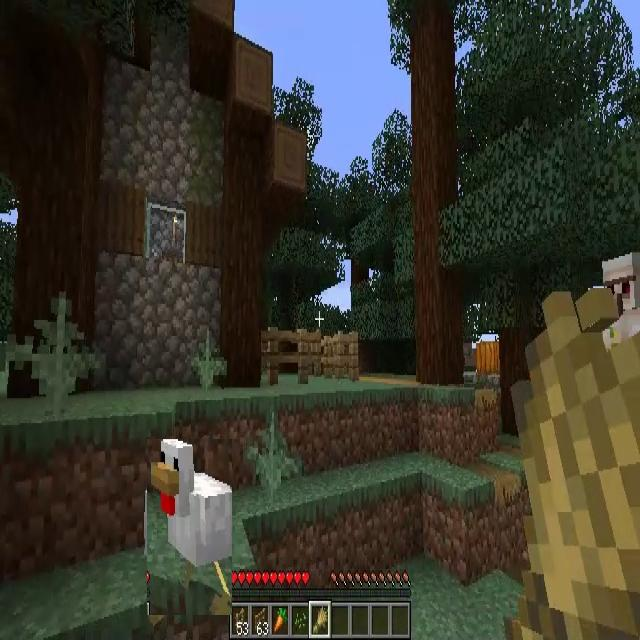duck: (147, 439, 232, 615)
